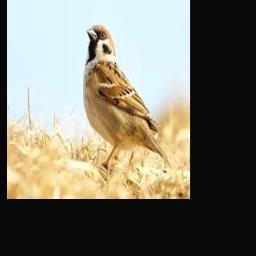Sparrow: (84, 25, 172, 170)
